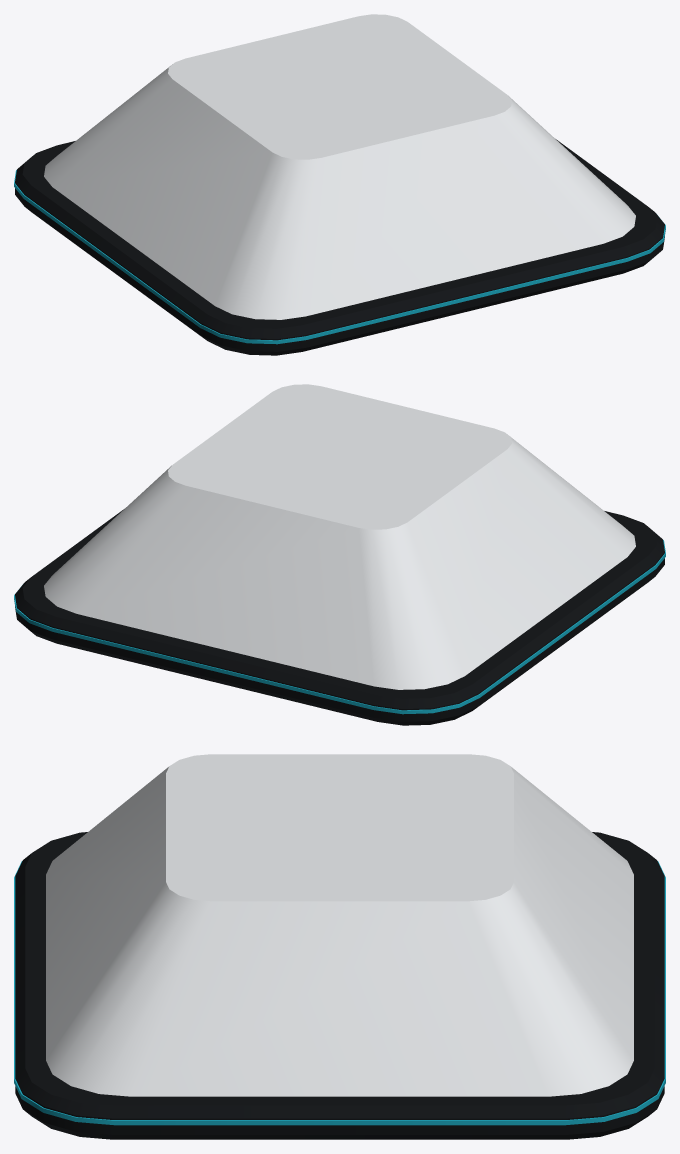
The model's file is n2_housing.obj.
The picture shows the model from 3 angles, top to bottom: view 1: azimuth 30°, elevation 25°; view 2: azimuth 150°, elevation 25°; view 3: azimuth 270°, elevation 25°; orthographic projection. The views are drawn at different scales.
Parts seen in each view (by area): view 1: n2_housing; view 2: n2_housing; view 3: n2_housing.
Part boxes in pixels (<box>): n2_housing: <box>14,14,665,355</box>; n2_housing: <box>14,384,665,725</box>; n2_housing: <box>14,754,665,1139</box>.
Bounding box in the file's own units: 2.06 × 0.585 × 1.99.
